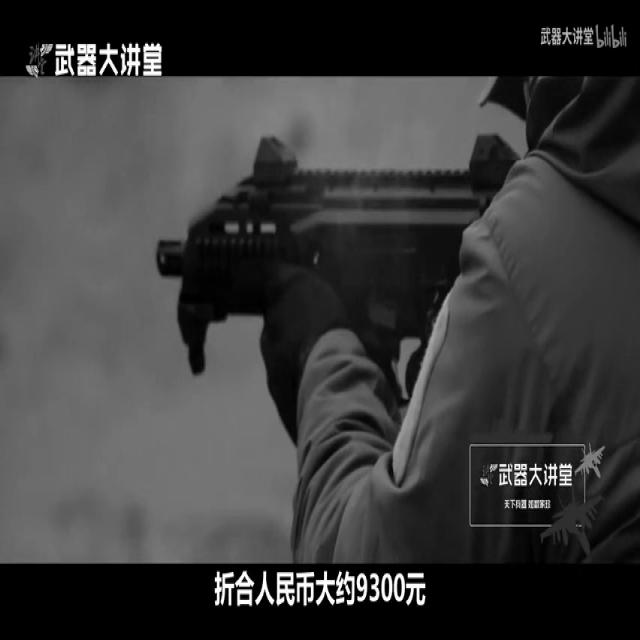Sub-machine-gun: (142, 120, 506, 413)
